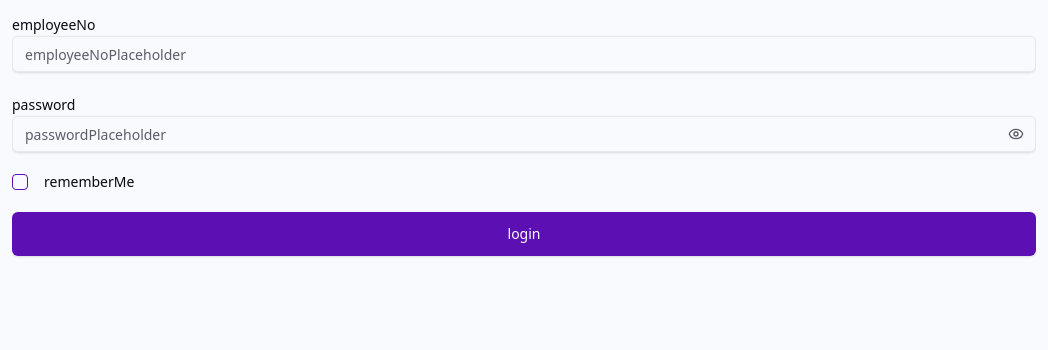
LoginForm › Form validation › should show error when submitting empty password
The image size is (1048, 350).
Step 1. Type "ADMIN001" into the field labelled "employeeNo" → (524, 54), box [12,36,1036,72]
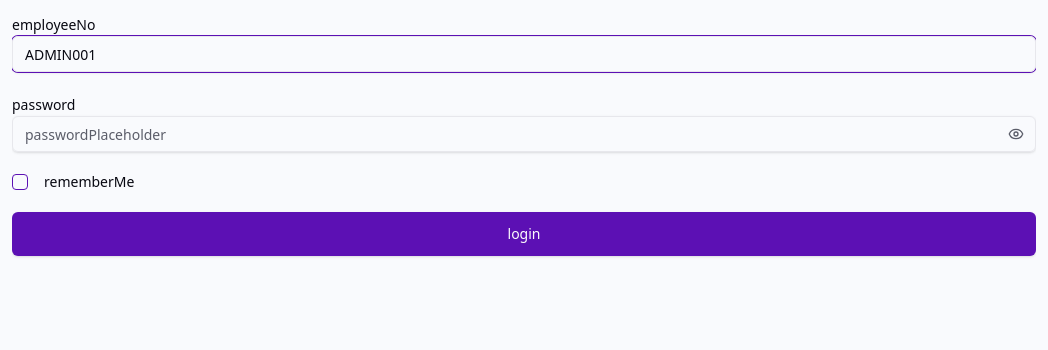
Step 2. Click the button "login" → (524, 234), box [12,212,1036,256]
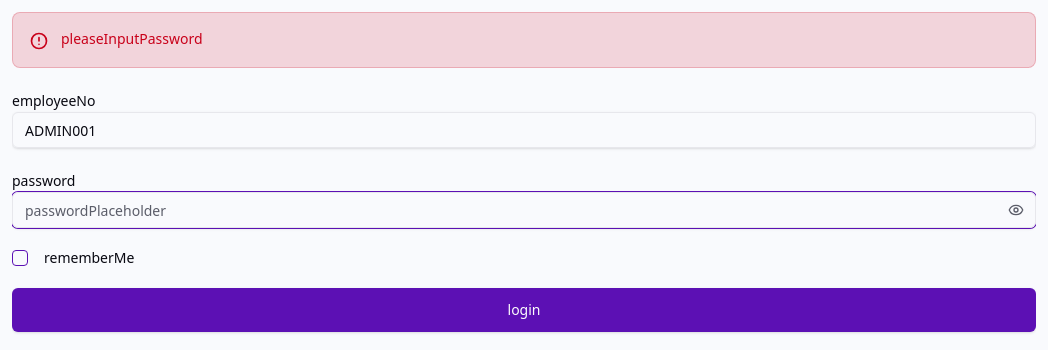
Result: the text "pleaseInputPassword" is shown at [61,29,203,49]
